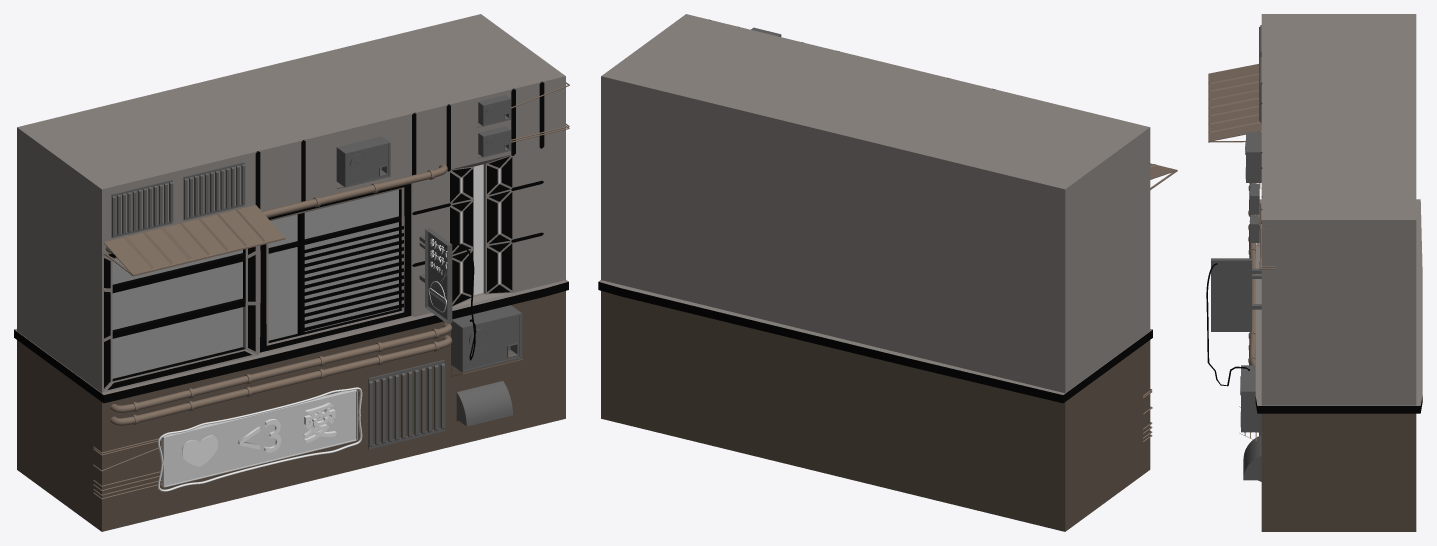
Rendered from SecFloorVol1.fbx.
The picture shows the model from 3 angles, left to right: view 1: azimuth 30°, elevation 25°; view 2: azimuth 150°, elevation 25°; view 3: azimuth 270°, elevation 25°; orthographic projection. The views are drawn at different scales.
Visible parts, largest first — view 1: Cube.019, Cube.030, Plane.003, Cube.033, Cube.032, Cube.021, NurbsPath.026, NurbsPath.025, Cube.034, Cube.035, Cube.023, Cube.028 (+7 smaller); view 2: Cube.019; view 3: Cube.019, Plane.003, Cube.028, Cube.021, Cube.023, Cube.031, NurbsPath.025, NurbsPath.031, Cube.025, Cube.027.
Part boxes in pixels (bbox=[...]): Cube.019: bbox=[14, 14, 568, 531]; Cube.030: bbox=[161, 389, 357, 487]; Plane.003: bbox=[103, 205, 285, 276]; Cube.033: bbox=[304, 226, 403, 331]; Cube.032: bbox=[368, 360, 445, 449]; Cube.021: bbox=[451, 305, 522, 372]; NurbsPath.026: bbox=[110, 335, 452, 425]; NurbsPath.025: bbox=[110, 323, 452, 413]; Cube.034: bbox=[111, 179, 173, 237]; Cube.035: bbox=[183, 162, 245, 220]; Cube.023: bbox=[336, 136, 390, 187]; Cube.028: bbox=[419, 228, 452, 323]; Cube.019: bbox=[598, 14, 1152, 531]; Cube.019: bbox=[1255, 14, 1422, 531]; Plane.003: bbox=[1208, 64, 1261, 142]; Cube.028: bbox=[1211, 258, 1261, 331]; Cube.021: bbox=[1240, 365, 1261, 432]; Cube.023: bbox=[1245, 132, 1261, 182]; Cube.031: bbox=[1243, 435, 1261, 481]; NurbsPath.025: bbox=[1248, 224, 1255, 365]; NurbsPath.031: bbox=[1206, 263, 1249, 386]; Cube.025: bbox=[1249, 183, 1259, 214]; Cube.027: bbox=[1249, 214, 1259, 242].
Bounding box in the file's own units: 1252 × 874 × 549.
